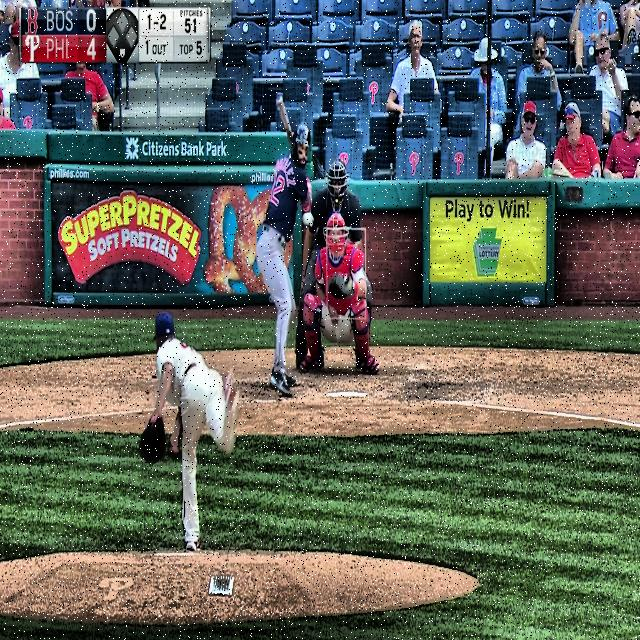baseball: (302, 212, 312, 226)
